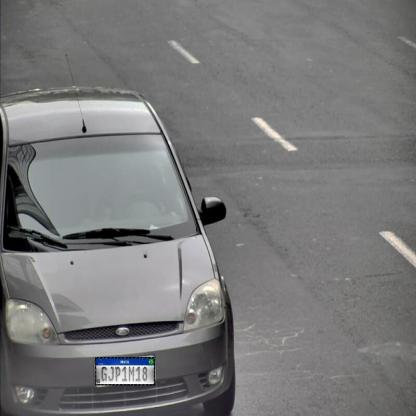PlacaM: (95, 357, 155, 386)
